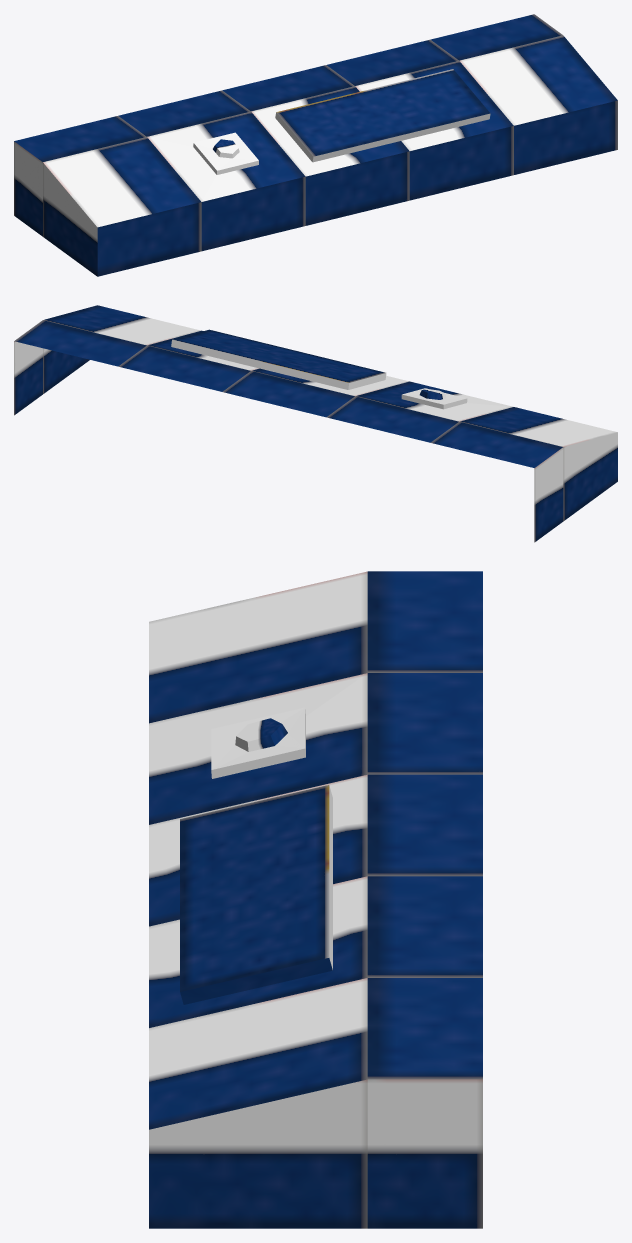
File: ControlPanel.obj
3 views of the same model, one above another, from view 1: azimuth 30°, elevation 25°; view 2: azimuth 150°, elevation 25°; view 3: azimuth 270°, elevation 25° (orthographic). The views are drawn at different scales.
Visible parts, largest first — view 1: ControlPanel_Plane; view 2: ControlPanel_Plane; view 3: ControlPanel_Plane.
Part boxes in pixels (<box>): ControlPanel_Plane: <box>14,14,617,276</box>; ControlPanel_Plane: <box>14,305,617,542</box>; ControlPanel_Plane: <box>149,571,482,1228</box>.
Size of the model in its own units: 5 by 0.7069 by 1.39.
